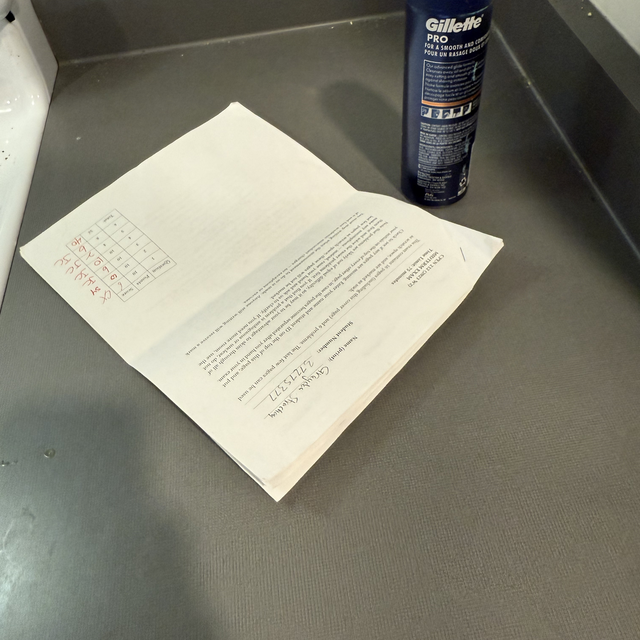Aerosol: (396, 11, 490, 210)
Paper: (22, 135, 472, 460)
